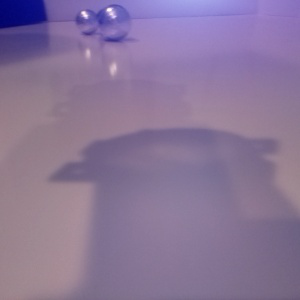alive_ball: (98, 5, 132, 39), (76, 9, 99, 34)
